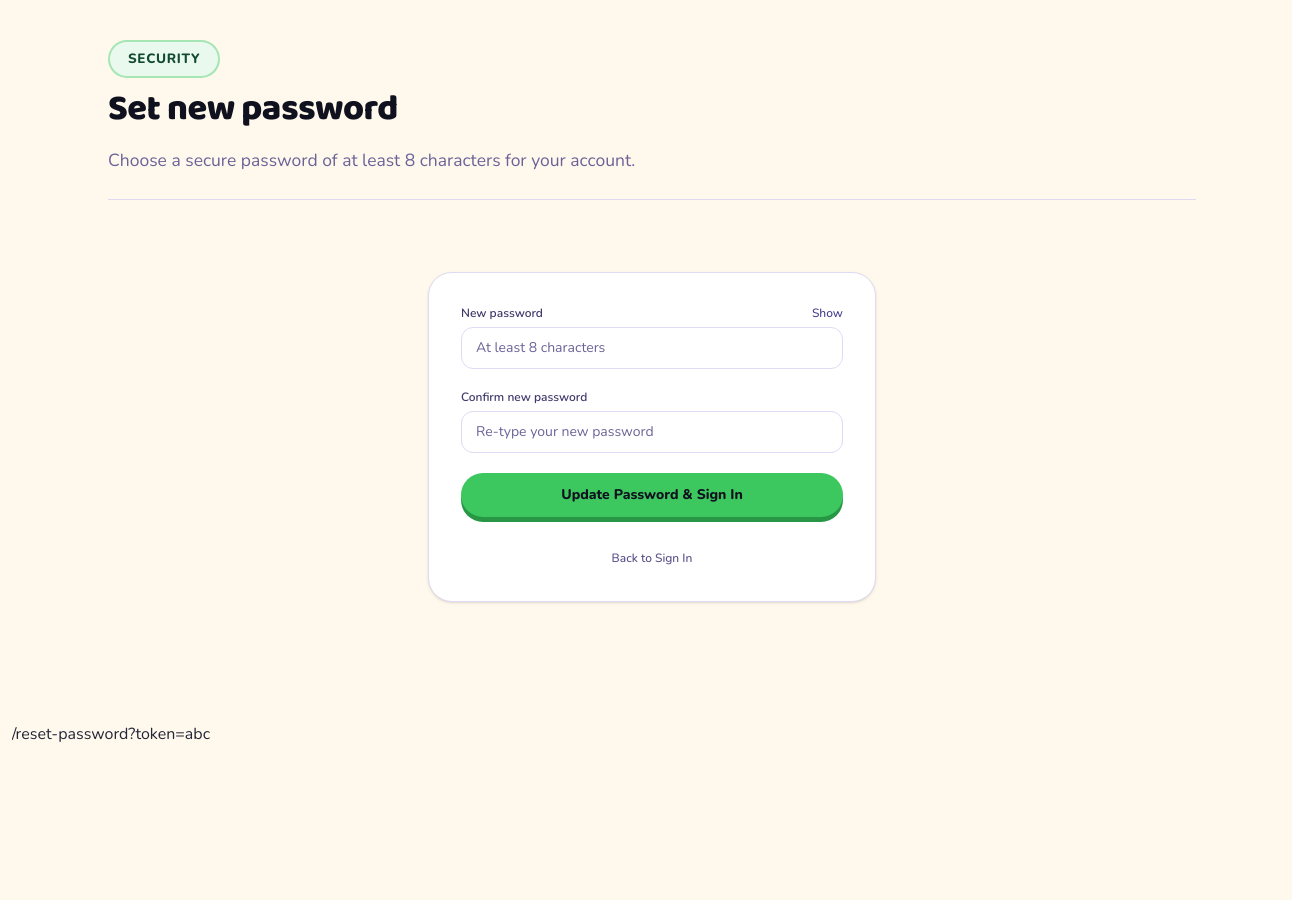
Scenario: ResetPasswordPage › reports a reset the server refused
Type "password123" into the password field with id "new-password" at (652, 348), box [461,327,843,369]
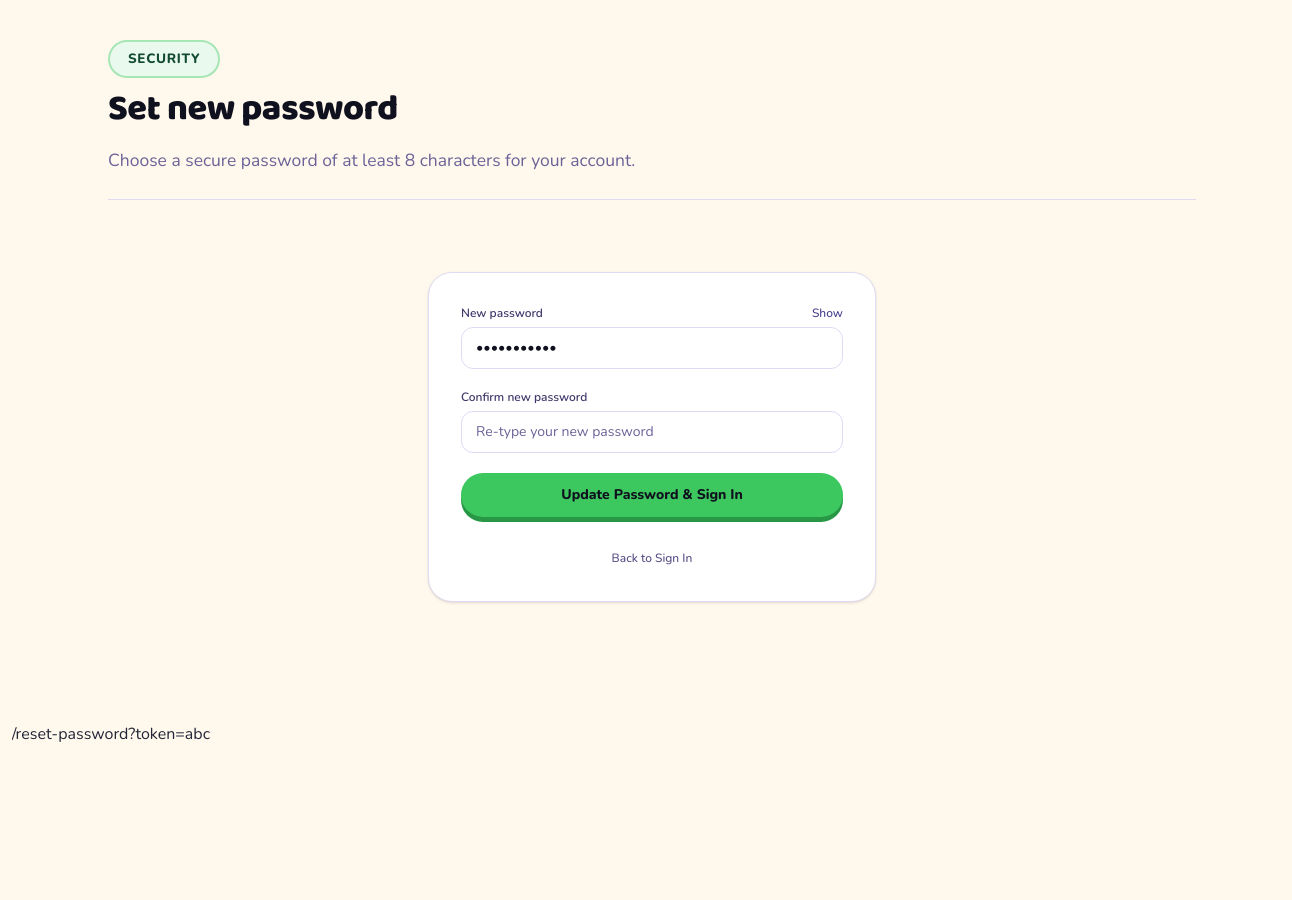
Type "password123" into the password field with id "confirm-new-password" at (652, 432), box [461,411,843,453]
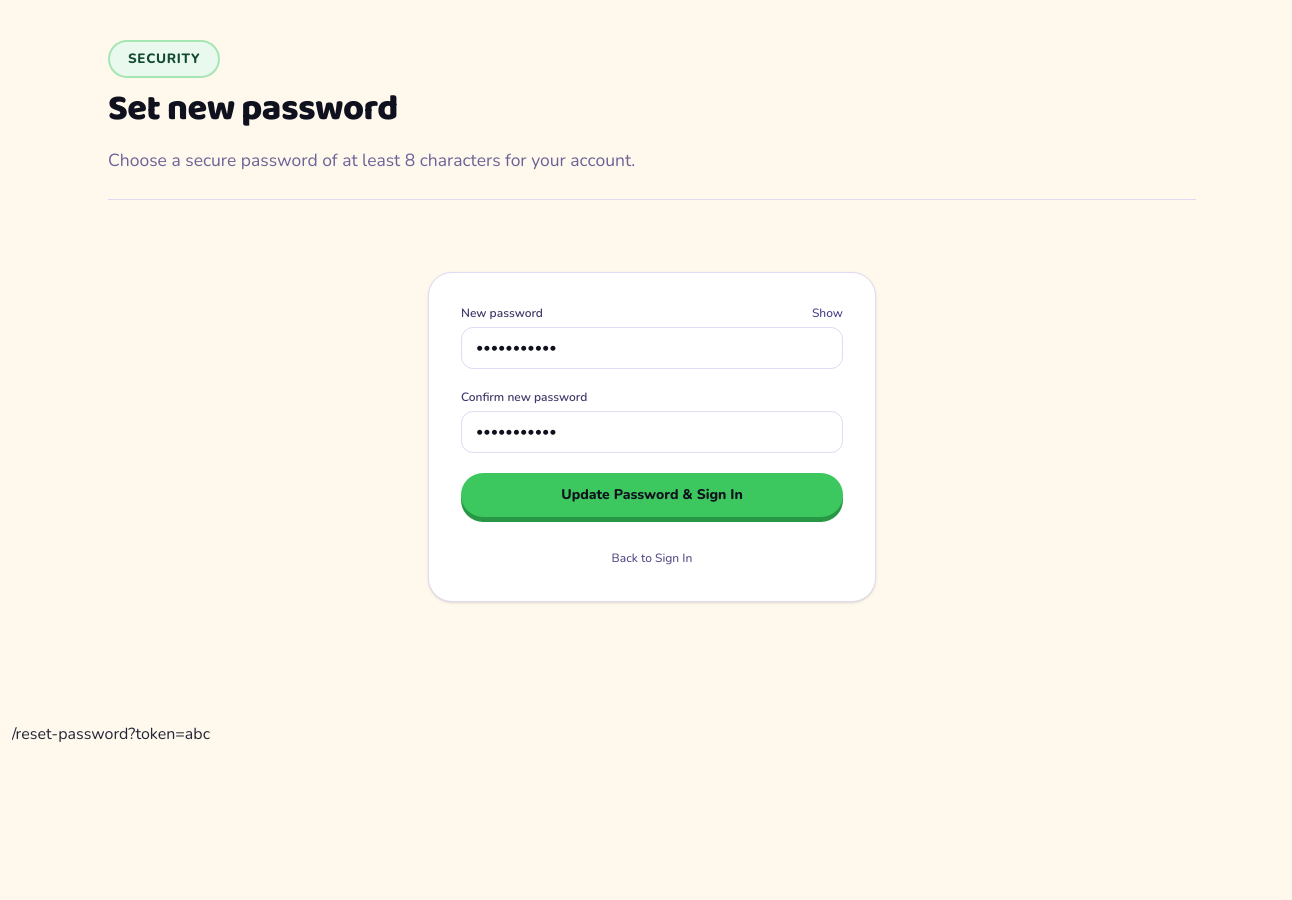
Submit the form, box [461,305,843,569]
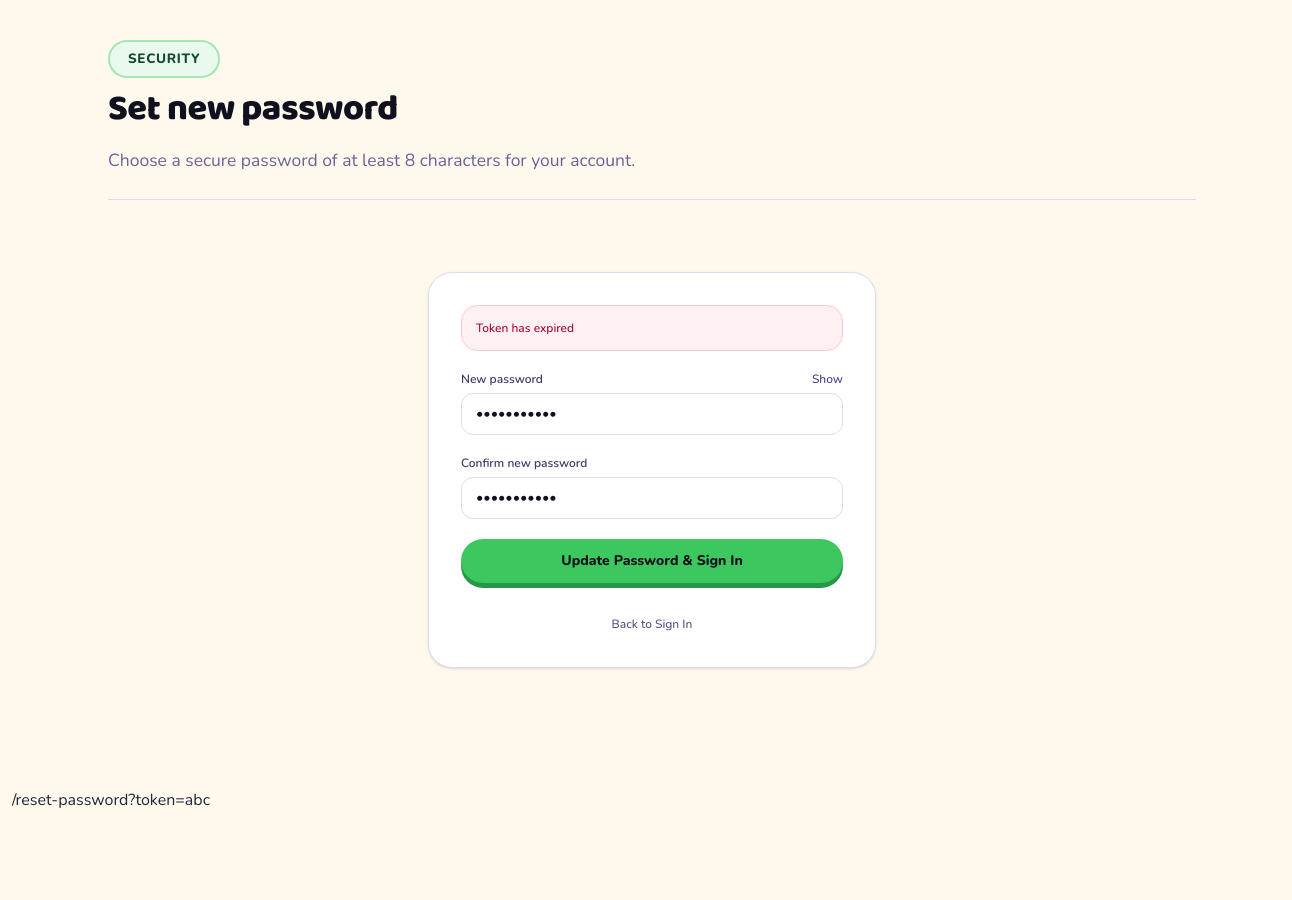
Now the message reads "Token has expired", box [476,320,574,336]
